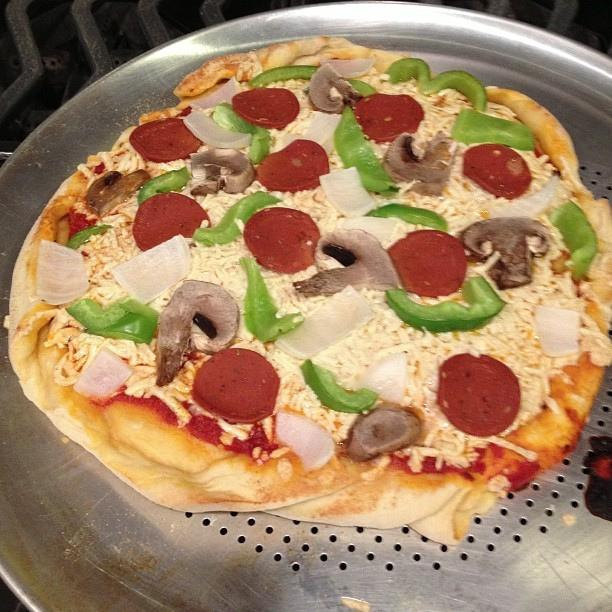mushroom: (154, 280, 241, 387), (292, 228, 404, 301), (459, 217, 550, 290), (383, 130, 459, 198), (346, 404, 422, 463), (190, 148, 255, 195), (86, 169, 152, 215), (309, 62, 364, 114)
onion: (275, 286, 375, 360), (111, 233, 192, 305), (274, 409, 336, 473), (74, 348, 138, 404), (35, 240, 89, 304), (488, 176, 559, 220), (318, 166, 376, 218), (358, 352, 410, 403), (184, 110, 253, 148), (284, 112, 342, 156), (534, 304, 580, 358), (190, 75, 242, 111), (342, 216, 400, 243), (318, 58, 377, 78)
